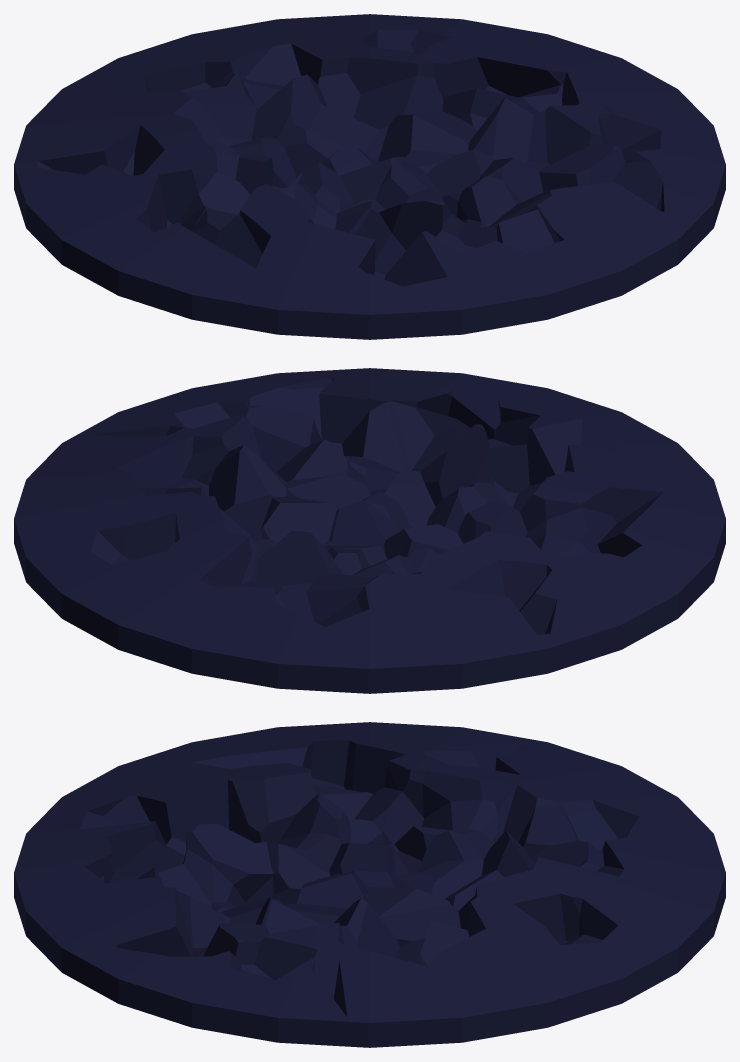
File: ufo01 parts.FBX
3 renders of one model, top to bottom at view 1: azimuth 30°, elevation 25°; view 2: azimuth 150°, elevation 25°; view 3: azimuth 270°, elevation 25°, orthographic.
Visible parts, largest first — view 1: ufo_whole_01_Elements193, ufo_whole_01_Elements30, ufo_whole_01_Elements79, ufo_whole_01_Elements52, ufo_whole_01_Elements134, ufo_whole_01_Elements73, ufo_whole_01_Elements157, ufo_whole_01_Elements283, ufo_whole_01_Elements232, ufo_whole_01_Elements129, ufo_whole_01_Elements186, ufo_whole_01_Elements198 (+78 smaller); view 2: ufo_whole_01_Elements274, ufo_whole_01_Elements193, ufo_whole_01_Elements134, ufo_whole_01_Elements30, ufo_whole_01_Elements52, ufo_whole_01_Elements74, ufo_whole_01_Elements148, ufo_whole_01_Elements143, ufo_whole_01_Elements190, ufo_whole_01_Elements186, ufo_whole_01_Elements60, ufo_whole_01_Elements253 (+70 smaller); view 3: ufo_whole_01_Elements52, ufo_whole_01_Elements30, ufo_whole_01_Elements196, ufo_whole_01_Elements74, ufo_whole_01_Elements106, ufo_whole_01_Elements198, ufo_whole_01_Elements60, ufo_whole_01_Elements193, ufo_whole_01_Elements235, ufo_whole_01_Elements248, ufo_whole_01_Elements78, ufo_whole_01_Elements266 (+77 smaller).
Boxes of the visible parts, x1,y1,x2,y2 form: ufo_whole_01_Elements193: [139, 224, 255, 327]; ufo_whole_01_Elements30: [243, 222, 375, 301]; ufo_whole_01_Elements79: [239, 297, 407, 339]; ufo_whole_01_Elements52: [477, 37, 623, 97]; ufo_whole_01_Elements134: [17, 114, 141, 174]; ufo_whole_01_Elements73: [69, 219, 153, 303]; ufo_whole_01_Elements157: [463, 241, 568, 314]; ufo_whole_01_Elements283: [426, 275, 511, 336]; ufo_whole_01_Elements232: [143, 142, 217, 224]; ufo_whole_01_Elements129: [564, 248, 653, 313]; ufo_whole_01_Elements186: [35, 200, 136, 268]; ufo_whole_01_Elements198: [661, 171, 720, 251]; ufo_whole_01_Elements274: [380, 603, 489, 692]; ufo_whole_01_Elements193: [597, 492, 725, 569]; ufo_whole_01_Elements134: [426, 589, 537, 683]; ufo_whole_01_Elements30: [564, 444, 715, 522]; ufo_whole_01_Elements52: [16, 469, 145, 516]; ufo_whole_01_Elements74: [31, 437, 186, 488]; ufo_whole_01_Elements148: [545, 596, 637, 659]; ufo_whole_01_Elements143: [95, 491, 197, 559]; ufo_whole_01_Elements190: [92, 578, 199, 654]; ufo_whole_01_Elements186: [604, 556, 683, 640]; ufo_whole_01_Elements60: [27, 552, 112, 624]; ufo_whole_01_Elements253: [135, 633, 241, 682]; ufo_whole_01_Elements52: [429, 929, 535, 1034]; ufo_whole_01_Elements30: [136, 756, 229, 842]; ufo_whole_01_Elements196: [228, 763, 314, 843]; ufo_whole_01_Elements74: [344, 945, 450, 1045]; ufo_whole_01_Elements106: [513, 947, 610, 1033]; ufo_whole_01_Elements198: [80, 947, 187, 1016]; ufo_whole_01_Elements60: [600, 925, 687, 1001]; ufo_whole_01_Elements193: [150, 731, 313, 770]; ufo_whole_01_Elements235: [185, 823, 273, 902]; ufo_whole_01_Elements248: [115, 887, 193, 956]; ufo_whole_01_Elements78: [245, 987, 332, 1045]; ufo_whole_01_Elements266: [422, 764, 524, 818].
Bounding box in the file's own units: 5.52 × 1.26 × 5.52.
